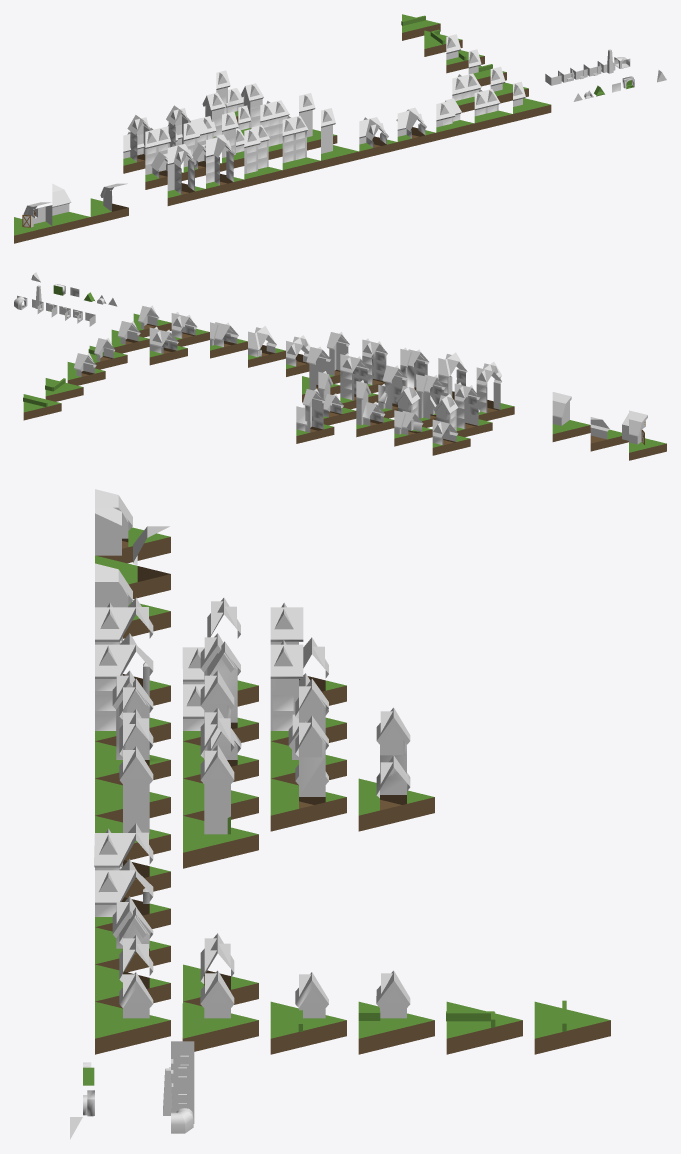
The model's file is Cases.fbx.
The picture shows the model from 3 angles, top to bottom: view 1: azimuth 30°, elevation 25°; view 2: azimuth 150°, elevation 25°; view 3: azimuth 270°, elevation 25°; orthographic projection. The views are drawn at different scales.
Visible parts, largest first — view 1: Pis_Interseccio_PE_PD_PE, Granja_Porta, Pis_Adossat_Simetric_DE, Pis_Adossat_EE, Pis_Interseccio_PE_PE_PE, Granja_Costat, Pis_Interseccio_CE_PD_PE, Casa_Interseccio_EEE, Casa_Interseccio_EDE, Pis_Interseccio_CE_PE_PE, Casa_Adossada_EE, Granja_Cul (+17 smaller); view 2: Pis_Interseccio_PE_CE_CE, Granja_Porta, Pis_Interseccio_PE_CD_CE, Casa_to_Pis_EE_Invertit, Granja_Cul, Casa_to_Pis_Simetric_ED, Pis_Interseccio_PE_PD_PE, Pis_Interseccio_CE_PD_PE, Pis_Interseccio_CE_PE_PE, Casa_Interseccio_EEE, Casa_to_Pis_Simetric_DE, Casa_Adossada_EE (+17 smaller); view 3: Casa_to_Pis_Simetric_ED, Casa_to_Pis_Simetric_DE, Pis_Cantonada_E, Granja_Porta, Pis_Adossat_EE, Casa_Cantonera_D.005, Casa_Cantonera_E.002, Casa_Cantonera_D, Casa_Cantonera_E, Casa_Adossada_EE, Pis_Interseccio_CE_PE_PE, Terra_01.145 (+17 smaller).
Part boxes in pixels (box(x1,y1,x2,y2)): Pis_Interseccio_PE_PD_PE: box(167, 144, 205, 205); Granja_Porta: box(14, 202, 52, 243); Pis_Adossat_Simetric_DE: box(282, 115, 320, 177); Pis_Adossat_EE: box(244, 125, 282, 187); Pis_Interseccio_PE_PE_PE: box(204, 134, 244, 196); Granja_Costat: box(52, 183, 90, 234); Pis_Interseccio_CE_PD_PE: box(145, 127, 183, 189); Casa_Interseccio_EEE: box(396, 107, 436, 149); Casa_Interseccio_EDE: box(359, 117, 397, 159); Pis_Interseccio_CE_PE_PE: box(183, 118, 221, 180); Casa_Adossada_EE: box(436, 98, 474, 140); Granja_Cul: box(90, 183, 128, 224); Pis_Interseccio_PE_CE_CE: box(394, 384, 432, 446); Granja_Porta: box(622, 410, 666, 460); Pis_Interseccio_PE_CD_CE: box(432, 394, 470, 455); Casa_to_Pis_EE_Invertit: box(356, 381, 394, 437); Granja_Cul: box(552, 392, 590, 441); Casa_to_Pis_Simetric_ED: box(296, 389, 334, 443); Pis_Interseccio_PE_PD_PE: box(476, 362, 514, 420); Pis_Interseccio_CE_PD_PE: box(454, 383, 492, 436); Pis_Interseccio_CE_PE_PE: box(416, 374, 445, 427); Casa_Interseccio_EEE: box(248, 326, 285, 367); Casa_to_Pis_Simetric_DE: box(318, 371, 356, 425); Casa_Adossada_EE: box(210, 322, 247, 358); Casa_to_Pis_Simetric_ED: box(358, 707, 434, 831); Casa_to_Pis_Simetric_DE: box(270, 716, 346, 831); Pis_Cantonada_E: box(183, 745, 258, 868); Granja_Porta: box(95, 489, 170, 563); Pis_Adossat_EE: box(95, 670, 170, 785); Casa_Cantonera_D.005: box(270, 972, 346, 1054); Casa_Cantonera_E.002: box(358, 970, 434, 1054); Casa_Cantonera_D: box(95, 972, 170, 1054); Casa_Cantonera_E: box(182, 970, 258, 1051); Casa_Adossada_EE: box(95, 896, 170, 972); Pis_Interseccio_CE_PE_PE: box(183, 633, 258, 745); Terra_01.145: box(534, 1000, 610, 1054).
Bounding box in the file's own units: 1685 × 120 × 615.
